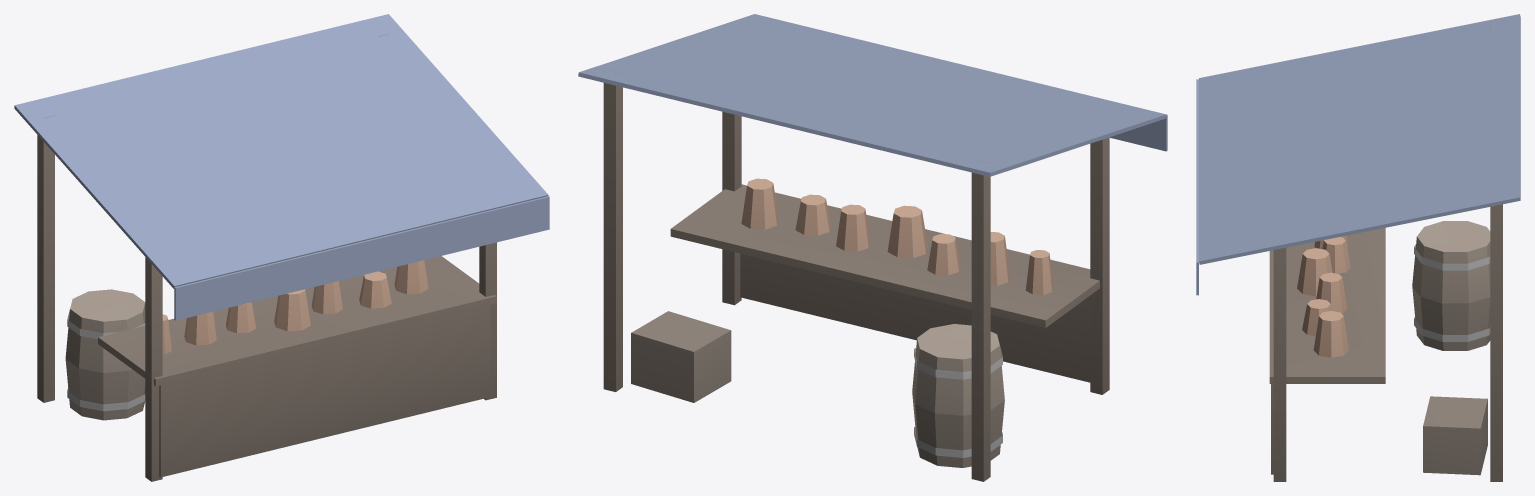
File: stall_1.glb
The picture shows the model from 3 angles, left to right: view 1: azimuth 30°, elevation 25°; view 2: azimuth 150°, elevation 25°; view 3: azimuth 270°, elevation 25°; orthographic projection. The views are drawn at different scales.
Visible parts, largest first — view 1: stall_1; view 2: stall_1; view 3: stall_1.
Part boxes in pixels (box(x1,y1,x2,y2)): stall_1: box(14, 14, 549, 481); stall_1: box(578, 14, 1167, 481); stall_1: box(1196, 14, 1520, 481).
Size of the model in its own units: 3.37 by 2.5 by 2.52.
